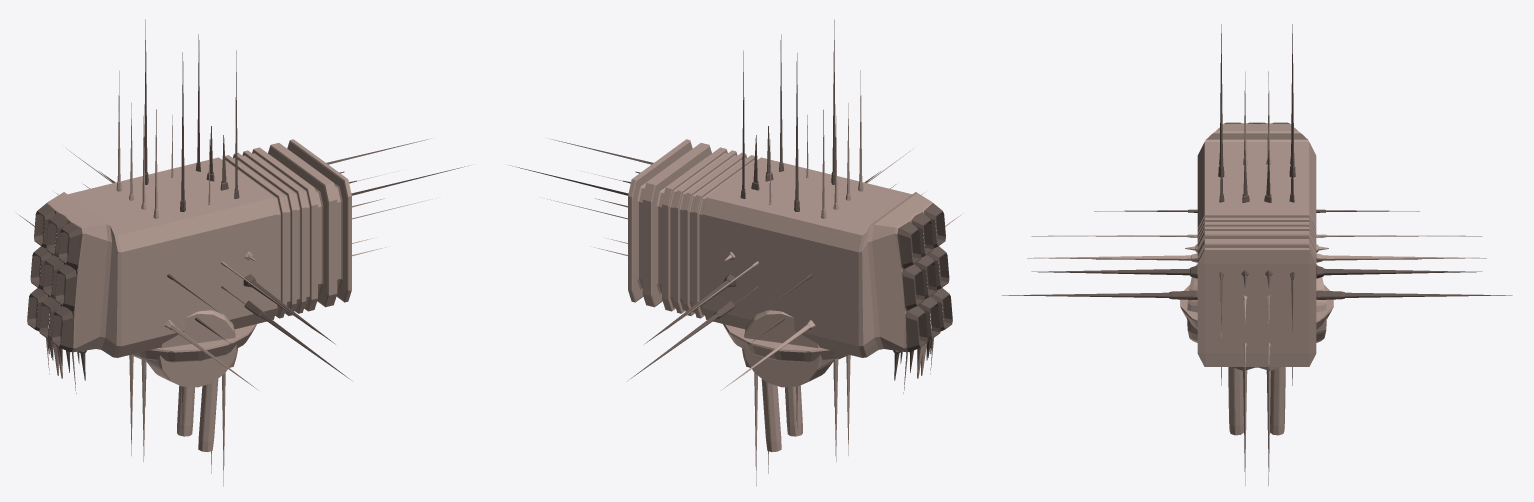
File: pvais3.fbx
3 views of the same model, side by side, from view 1: azimuth 30°, elevation 25°; view 2: azimuth 150°, elevation 25°; view 3: azimuth 270°, elevation 25° (orthographic). The views are drawn at different scales.
Visible parts, largest first — view 1: Spaceship; view 2: Spaceship; view 3: Spaceship.
Part boxes in pixels (box(x1,y1,x2,y2)): Spaceship: box(18, 19, 468, 486); Spaceship: box(511, 20, 961, 486); Spaceship: box(1002, 24, 1512, 485).
Bounding box in the file's own units: 570 × 618 × 654.
